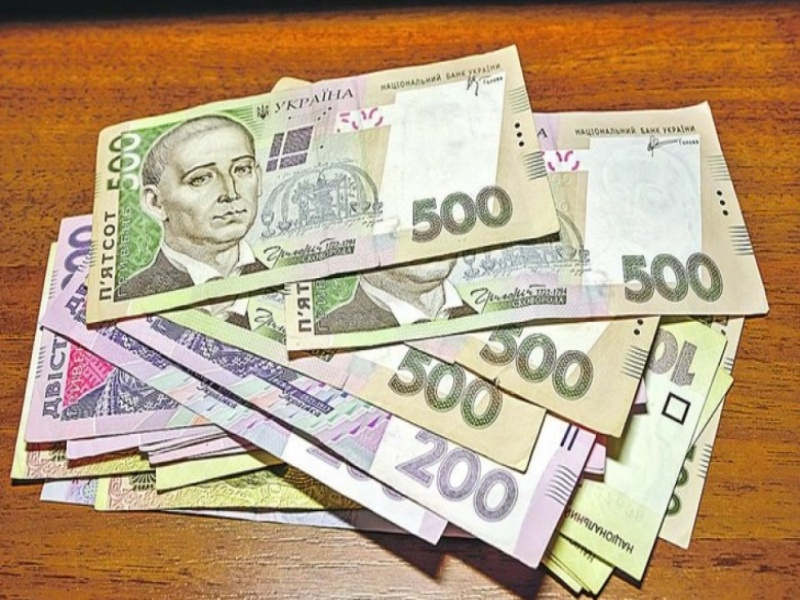cash: (12, 45, 769, 597)
